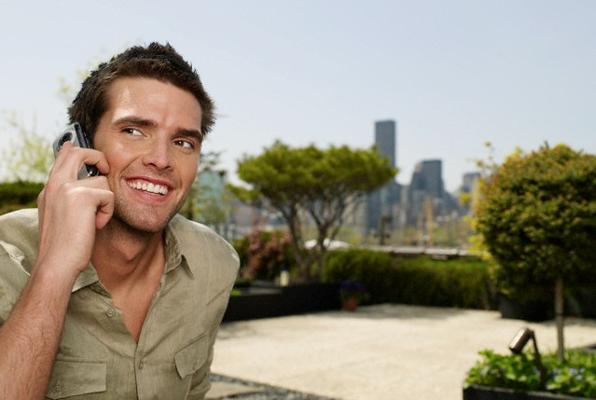person: (3, 42, 241, 400)
